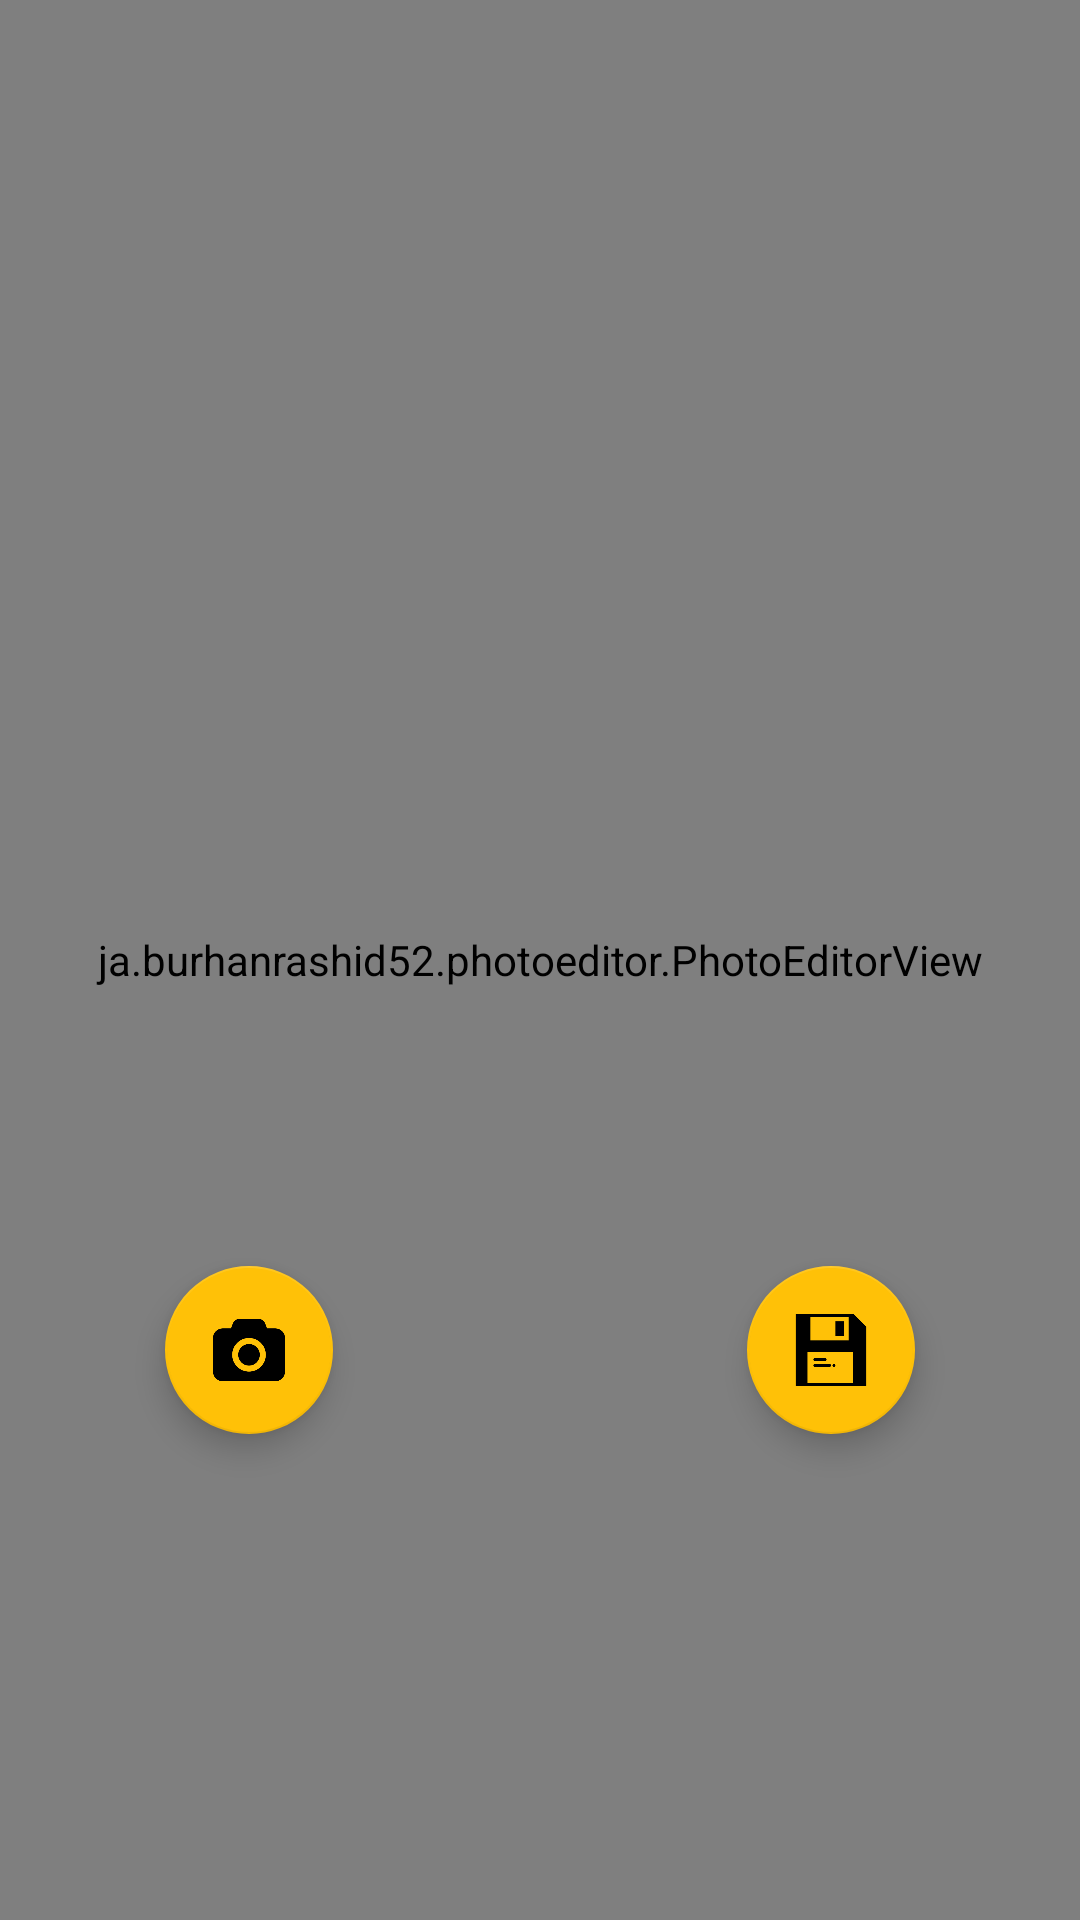

Icon click points for this 1080x1920 phone screenshot, format (x=x, y=y):
camera: (x=249, y=1350)
save: (x=831, y=1350)
